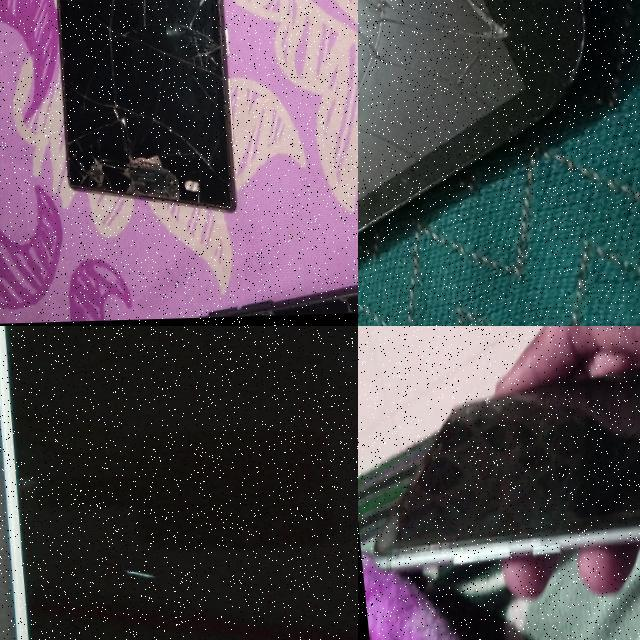scratch: (109, 559, 156, 586)
screen crack: (358, 0, 530, 306), (37, 0, 239, 196)
